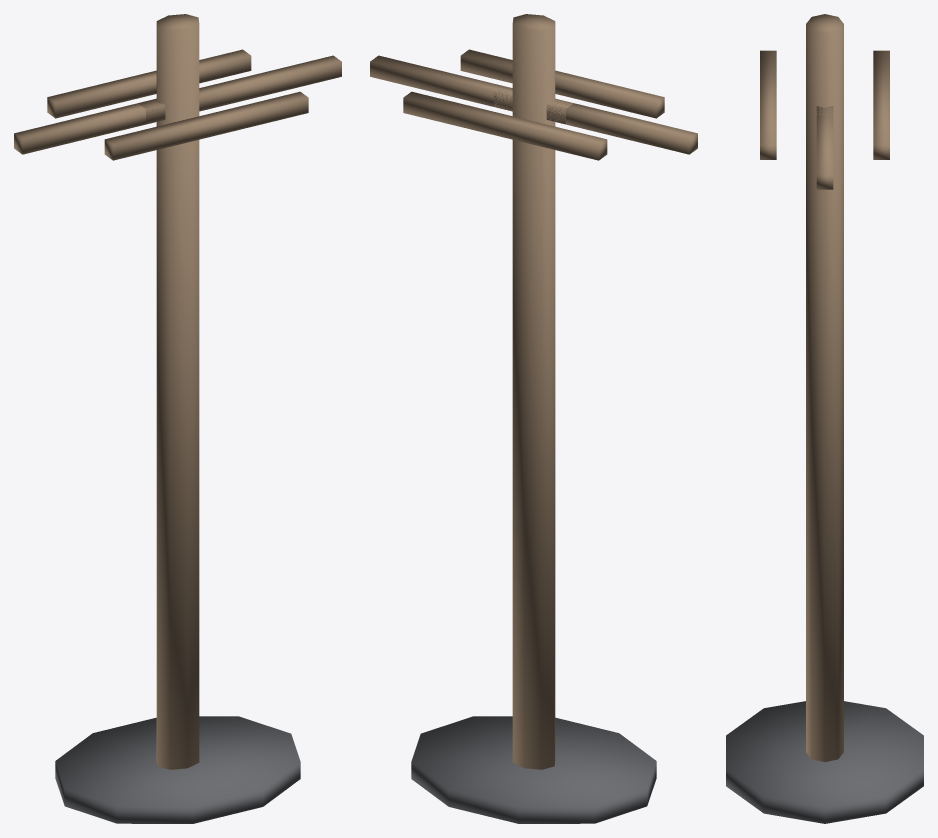
Rendered from coat_rack__wide.glb.
3 views of the same model, side by side, from view 1: azimuth 30°, elevation 25°; view 2: azimuth 150°, elevation 25°; view 3: azimuth 270°, elevation 25° (orthographic).
Parts seen in each view (by area): view 1: world; view 2: world; view 3: world.
Boxes of the visible parts, bbox=[...] form: world: bbox=[14, 14, 341, 823]; world: bbox=[370, 14, 697, 823]; world: bbox=[726, 14, 923, 823].
Size of the model in its own units: 0.7688 by 1.74 by 0.4185.
